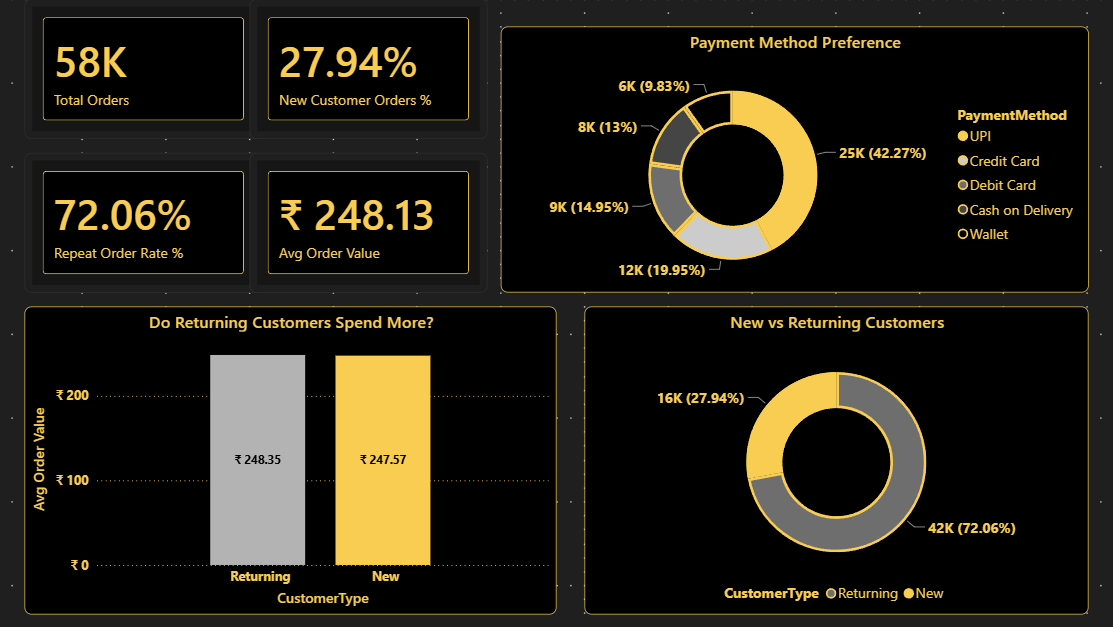

The page's visual inventory and layout, read from the dashboard file:
{"tool":"powerbi","page":{"name":"Customer Insights","canvas":[1280,720],"ordinal":3},"visuals":[{"type":"donutChart","title":"New vs Returning Customers","fields":{"Category":["Sales_Fact.CustomerType"],"Y":["_Measures.Total Orders"]},"box":[672,352,576,352],"z":6},{"type":"cardVisual","fields":{"Data":["_Measures.Total Orders"]},"box":[32,0,272,160],"z":7},{"type":"cardVisual","fields":{"Data":["Customer Behaviour.Repeat Order Rate %"]},"box":[32,176,272,160],"z":8},{"type":"cardVisual","fields":{"Data":["_Measures.Avg Order Value"]},"box":[288,176,272,160],"z":9},{"type":"cardVisual","fields":{"Data":["Calendar.New Customer Orders %"]},"box":[288,0,272,160],"z":10},{"type":"donutChart","title":"Payment Method Preference","fields":{"Category":["Sales_Fact.PaymentMethod"],"Y":["_Measures.Total Orders"]},"box":[576,32,672,304],"z":11},{"type":"columnChart","title":"Do Returning Customers Spend More?","fields":{"Y":["_Measures.Avg Order Value"],"Category":["Sales_Fact.CustomerType"]},"box":[32,352,608,352],"z":12}]}

Visuals, with their boxes in screenshot pixels (x1, y1, x2, y2), scaled from the page's 1280x720 canvas onto the 1113x627 screenshot:
"New vs Returning Customers" donutChart: bbox(584, 307, 1085, 613)
cardVisual - _Measures.Total Orders: bbox(28, 0, 264, 139)
cardVisual - Customer Behaviour.Repeat Order Rate %: bbox(28, 153, 264, 293)
cardVisual - _Measures.Avg Order Value: bbox(250, 153, 487, 293)
cardVisual - Calendar.New Customer Orders %: bbox(250, 0, 487, 139)
"Payment Method Preference" donutChart: bbox(501, 28, 1085, 293)
"Do Returning Customers Spend More?" columnChart: bbox(28, 307, 556, 613)
